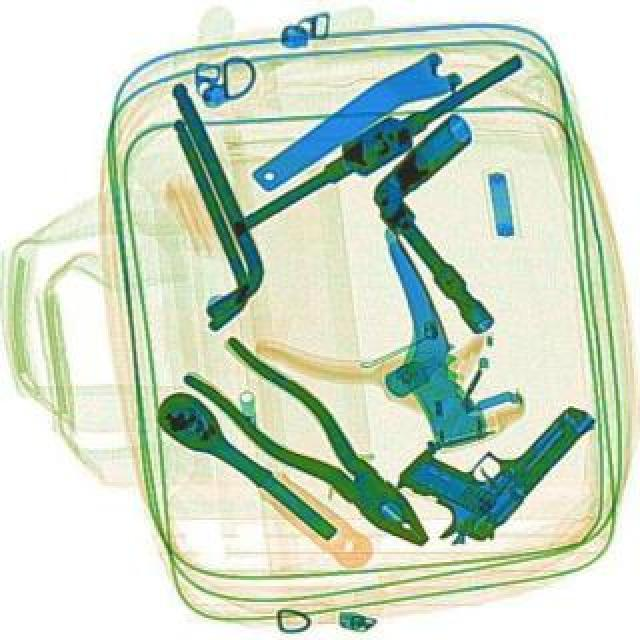gun: (380, 354, 594, 560)
wrench: (176, 324, 454, 564)
